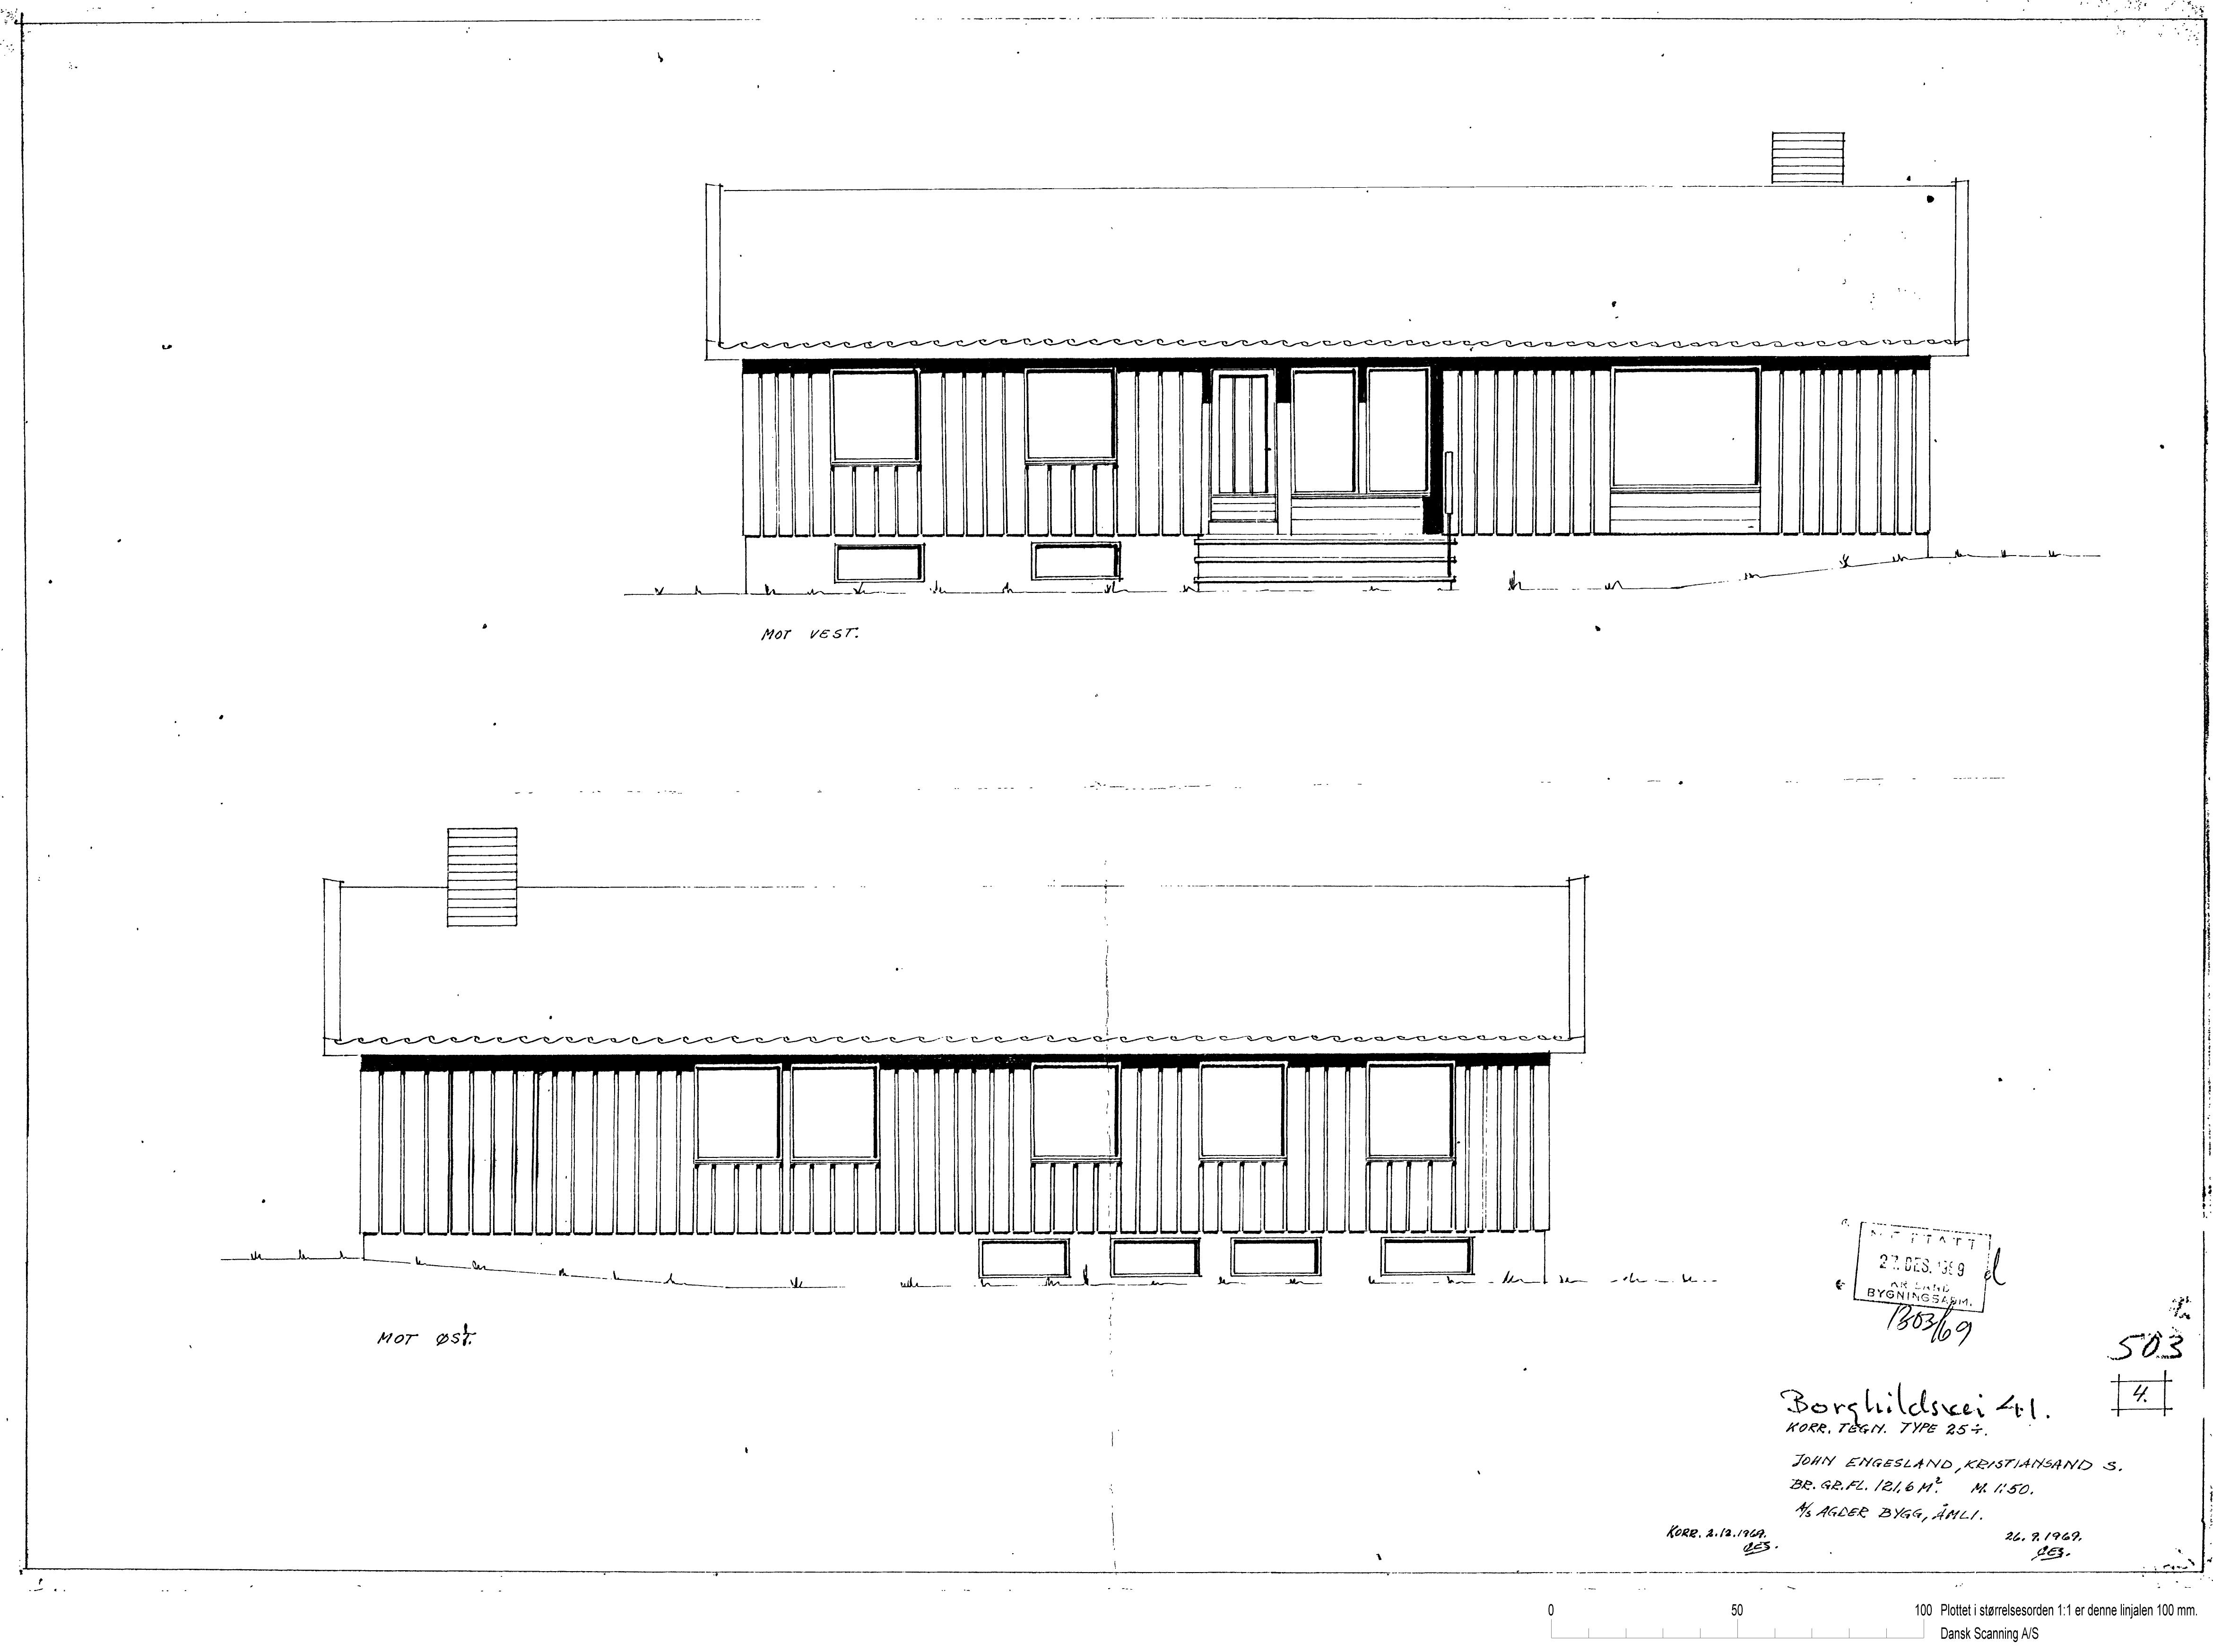fasade: (630, 111, 2001, 654), (293, 807, 1632, 1324)
